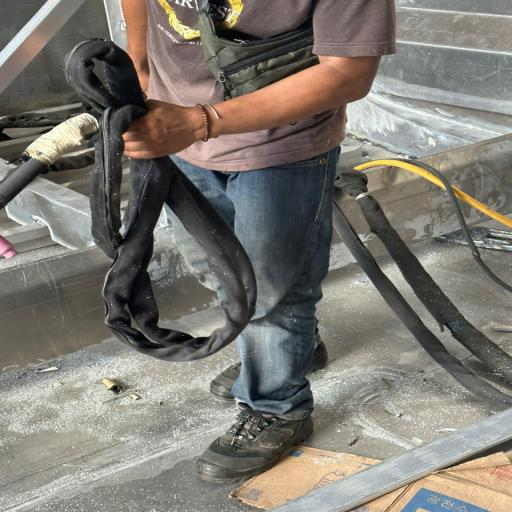safety_shoe: (188, 402, 326, 486)
